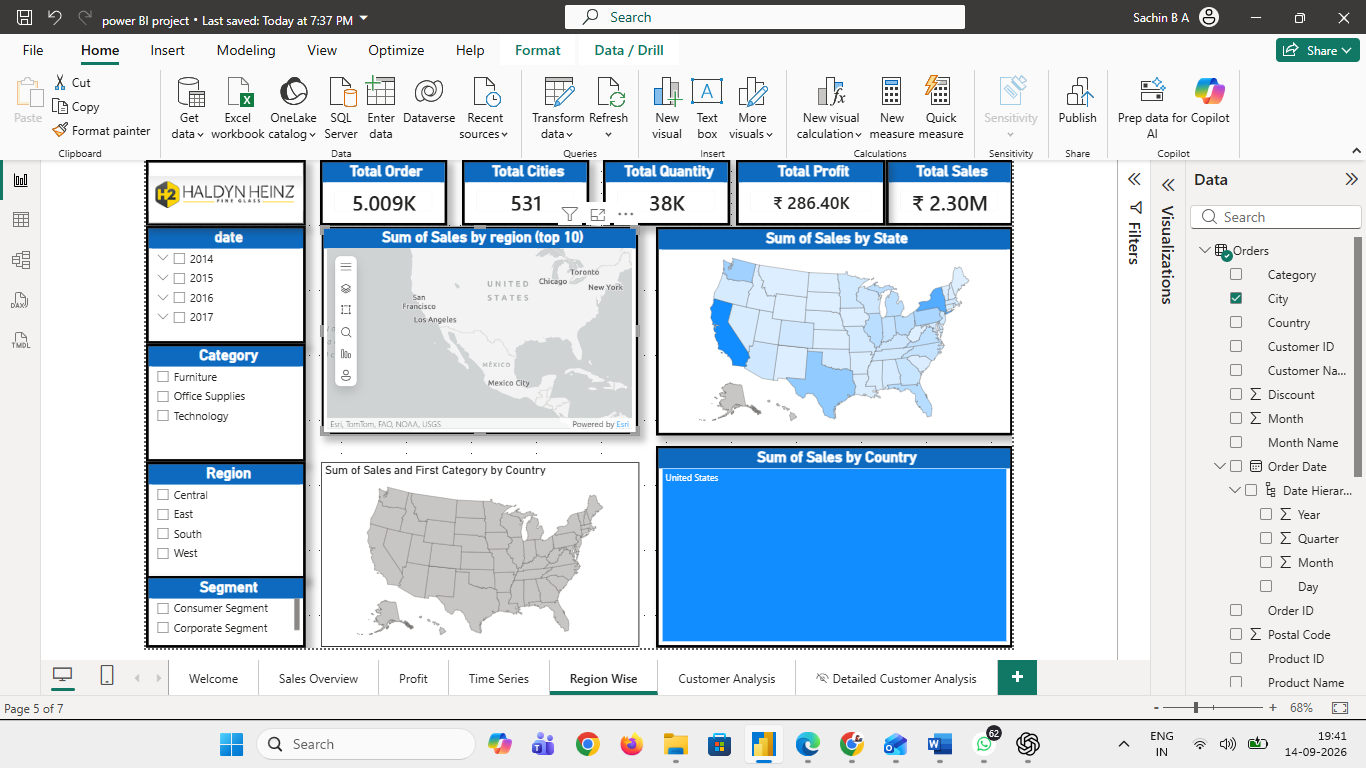

The page's visual inventory and layout, read from the dashboard file:
{"tool":"powerbi","page":{"name":"Region Wise","canvas":[1280,720],"ordinal":4},"visuals":[{"type":"cardVisual","title":"Total Sales","fields":{"Data":["Sum(Orders.Sales)"]},"box":[1092.4,0,187.6,97.5],"z":0},{"type":"cardVisual","title":"Total Quantity","fields":{"Data":["Sum(Orders.Quantity)"]},"box":[675.2,0,187.6,97.5],"z":1000},{"type":"cardVisual","title":"Total Profit","fields":{"Data":["Sum(Orders.Profit)"]},"box":[871.4,0,221.4,97.1],"z":2000},{"type":"cardVisual","title":"Total Order","fields":{"Data":["Count(Orders.Order ID)"]},"box":[257.6,0,187.6,97.5],"z":3000},{"type":"cardVisual","title":"Total Cities","fields":{"Data":["Count(Orders.City)"]},"box":[466.4,0,187.6,97.5],"z":4000},{"type":"slicer","title":"date","fields":{"Values":["Orders.Order Date.Variation.Date Hierarchy.Year","Orders.Order Date.Variation.Date Hierarchy.Quarter","Orders.Order Date.Variation.Date Hierarchy.Month","Orders.Order Date.Variation.Date Hierarchy.Day"]},"box":[0,97.5,236.3,174.3],"z":5000},{"type":"slicer","title":"Category","fields":{"Values":["Orders.Category"]},"box":[0,271.8,236.3,174.3],"z":6000},{"type":"slicer","title":"Region","fields":{"Values":["Orders.Region"]},"box":[0,446,236.3,174.3],"z":7000},{"type":"slicer","title":"Segment","fields":{"Values":["Orders.Segment"]},"box":[0,613.7,236.3,106.3],"z":8000},{"type":"image","box":[0,0,236.3,97.5],"z":9000},{"type":"esriVisual","title":"Sum of Sales by region (top 10)","fields":{"Location":["Orders.City"],"Size":["Sum(Orders.Sales)"]},"box":[258.8,97.5,468.8,308.8],"z":10000},{"type":"shapeMap","fields":{"Category":["Orders.State"],"Value":["Sum(Orders.Sales)"]},"box":[753.3,98.3,526.7,308.3],"z":11000},{"type":"treemap","fields":{"Group":["Orders.Country","Orders.Region","Orders.State","Orders.City"],"Values":["Sum(Orders.Sales)"]},"box":[753,422,527,298],"z":12000},{"type":"shapeMap","fields":{"Category":["Orders.Country"],"Value":["Sum(Orders.Sales)"]},"box":[258.3,446.7,470,273.3],"z":13000}]}

Visuals, with their boxes on the page's 1280x720 design canvas (x1, y1, x2, y2). These are canvas units, not pixel positions in the 1366x768 screenshot, which may show the page scaled, cropped or inside an application window:
"Total Sales" cardVisual: (1092, 0, 1280, 98)
"Total Quantity" cardVisual: (675, 0, 863, 98)
"Total Profit" cardVisual: (871, 0, 1093, 97)
"Total Order" cardVisual: (258, 0, 445, 98)
"Total Cities" cardVisual: (466, 0, 654, 98)
"date" slicer: (0, 98, 236, 272)
"Category" slicer: (0, 272, 236, 446)
"Region" slicer: (0, 446, 236, 620)
"Segment" slicer: (0, 614, 236, 720)
image: (0, 0, 236, 98)
"Sum of Sales by region (top 10)" esriVisual: (259, 98, 728, 406)
shapeMap - Orders.State x Sum(Orders.Sales): (753, 98, 1280, 407)
treemap - Orders.Country x Orders.Region: (753, 422, 1280, 720)
shapeMap - Orders.Country x Sum(Orders.Sales): (258, 447, 728, 720)
